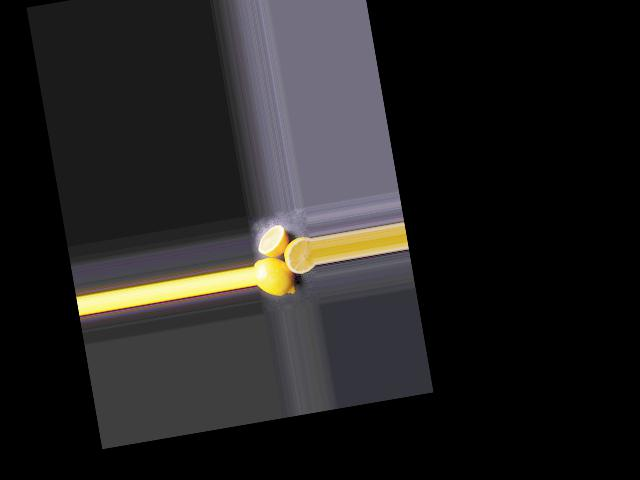lemon: (253, 251, 296, 302)
